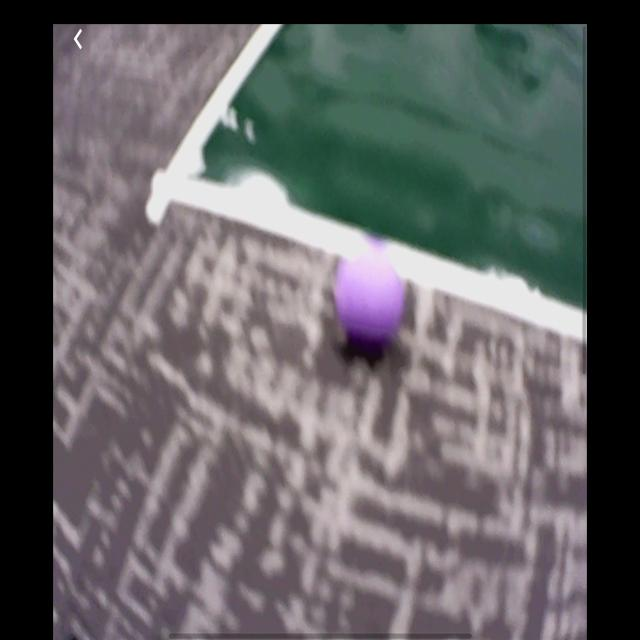ball: (333, 248, 406, 351)
